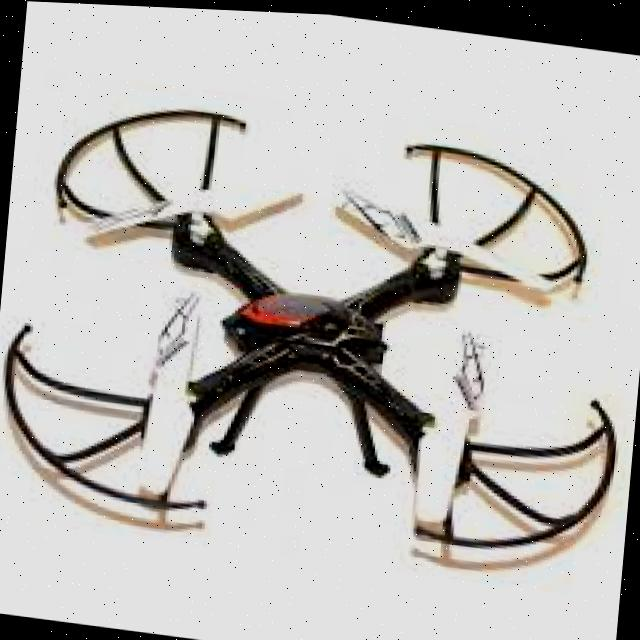drone: (0, 85, 640, 586)
